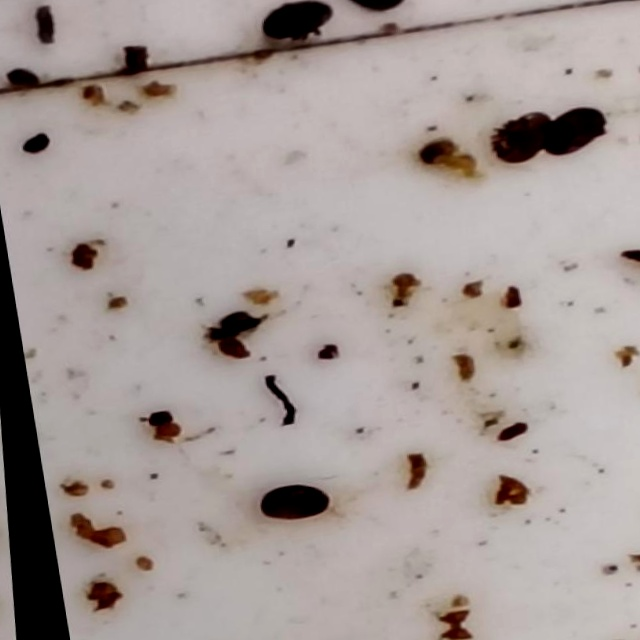varroa: (484, 109, 553, 172), (249, 481, 332, 529), (542, 105, 610, 158), (15, 132, 53, 159)
